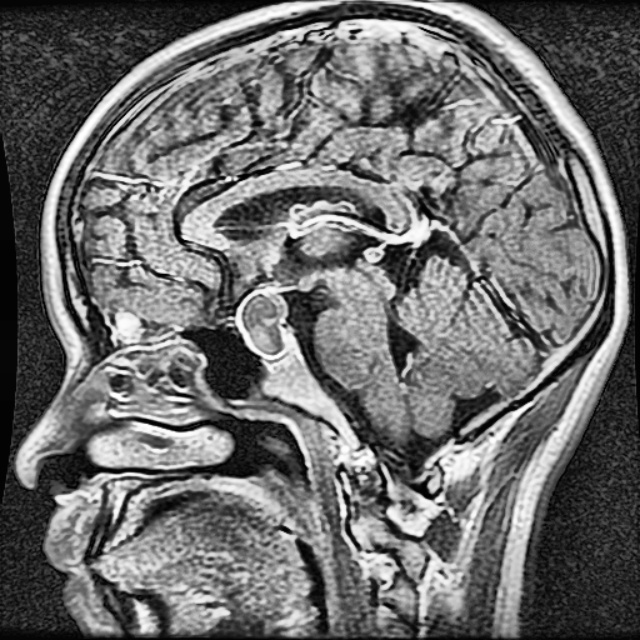Pituitary: (242, 289, 288, 352)
